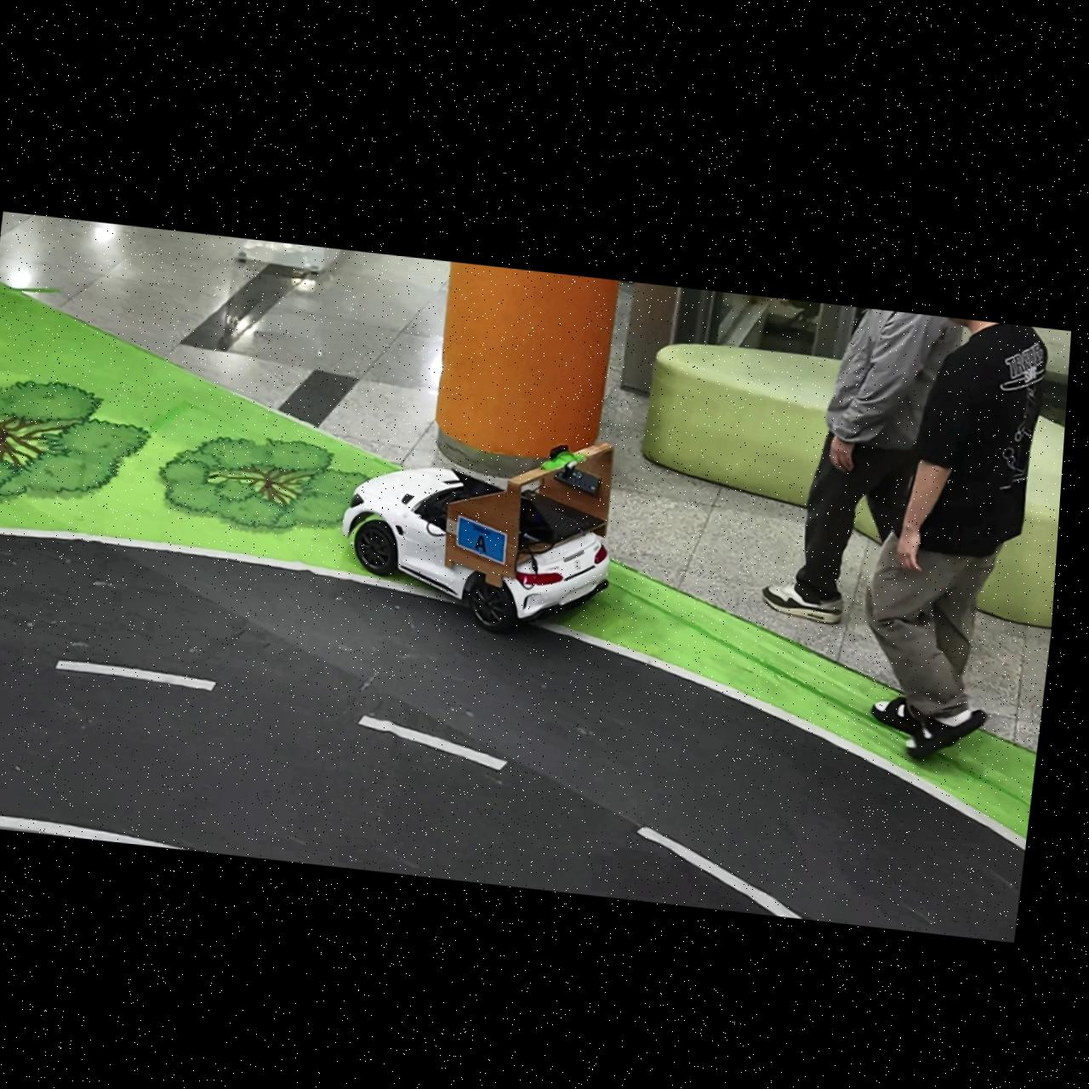broken_line: (636, 826, 802, 918), (357, 715, 507, 770), (55, 660, 216, 691)
